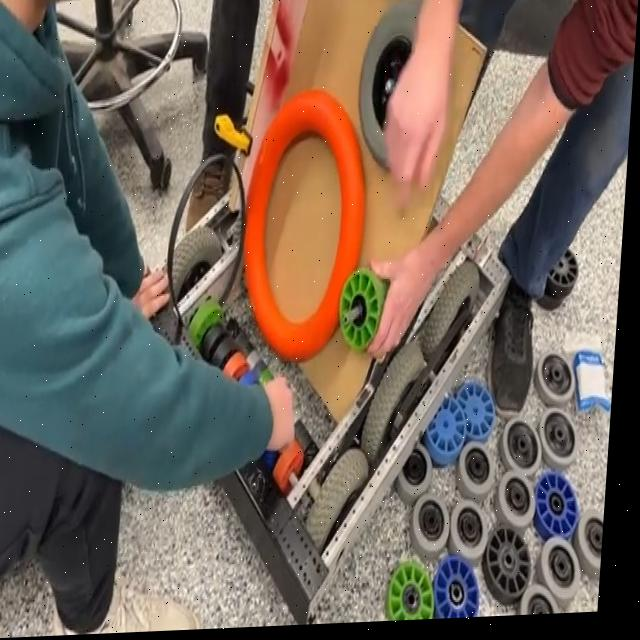note: (239, 86, 378, 369)
